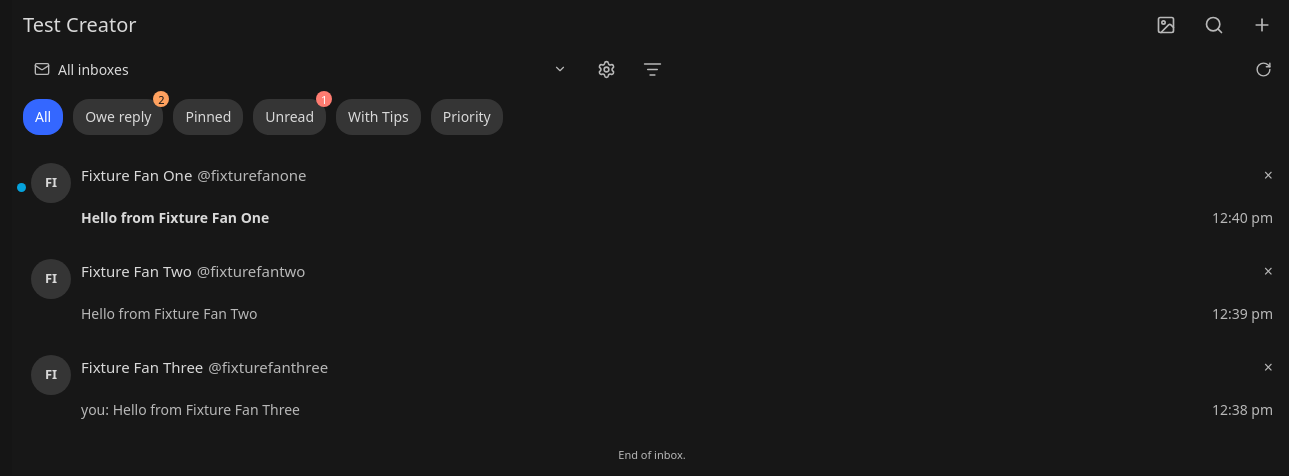
Test: FanList › shows the owe dot only while Owe reply is the active filter
The image size is (1289, 476).
Click the button "Owe reply 2": x=118, y=117 [73,99,163,135]
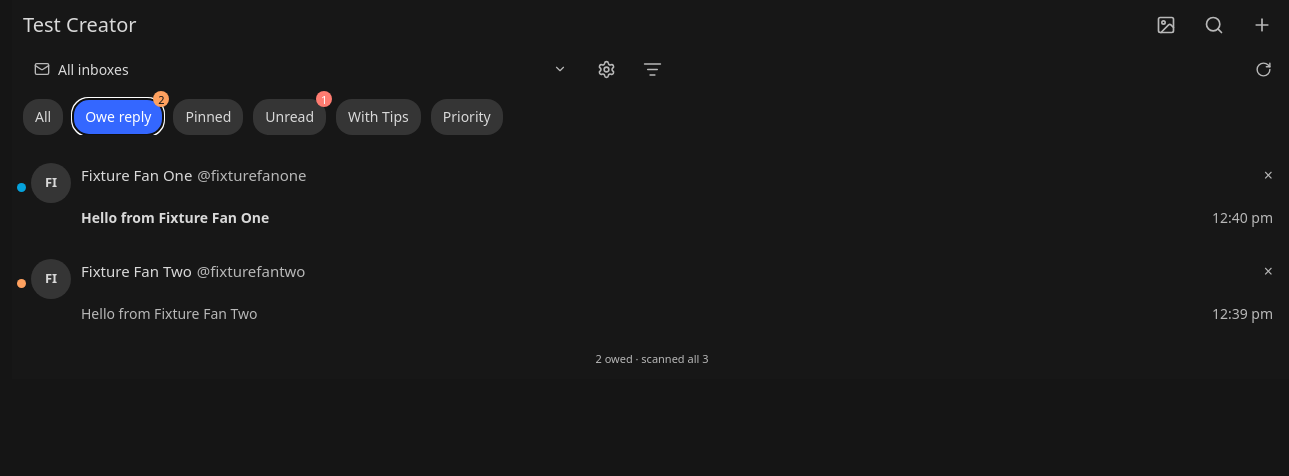
Result: the button "Fixture Fan Three" is gone
Result: the number of pictures named "Read · awaiting your reply" is 1 at [17,279,26,288]
